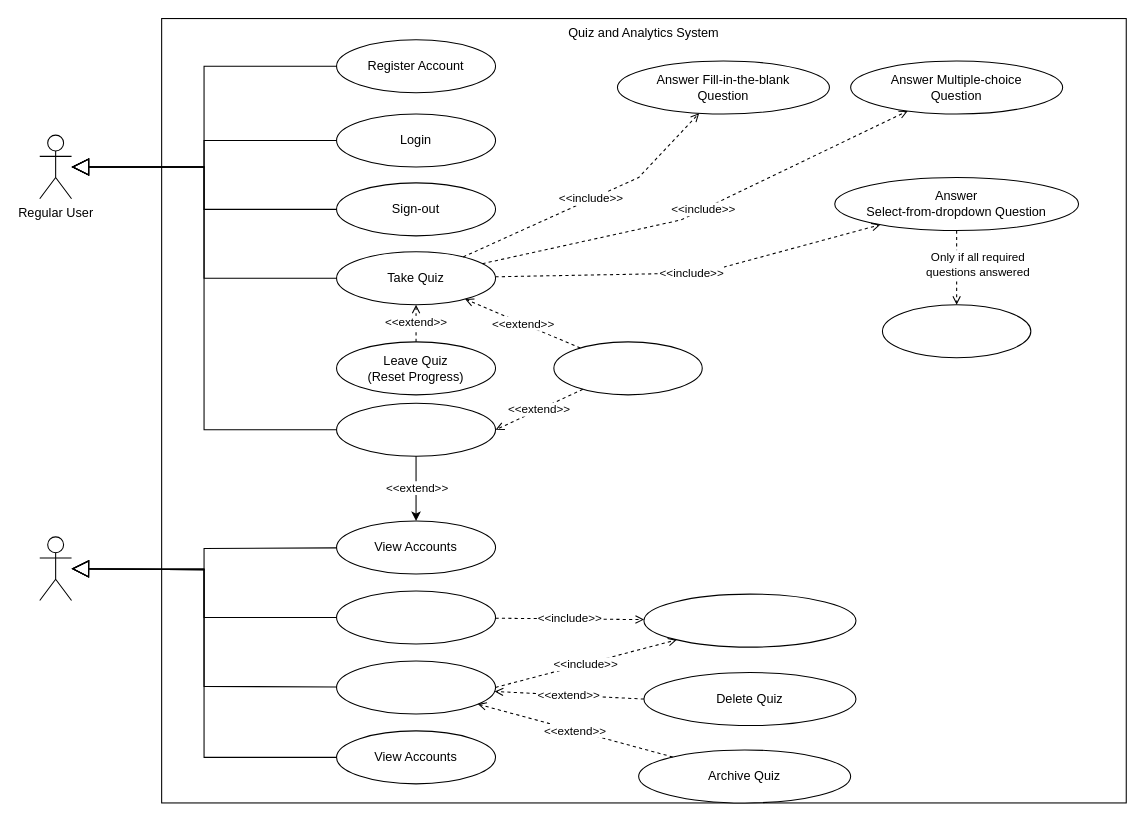
This 1145x821 diagram has some shape labels left out. Here are the shapes that lost their labels. From the top down, the centre of each, then its label:
At [956,331]: "Submit Quiz".
At [627,368]: "Retake Quiz".
At [415,429]: "View Account Quiz Analytics".
At [55,568]: "Admin User".
At [415,617]: "Create Quiz".
At [749,620]: "Manage Questions".
At [415,687]: "Edit Quiz".
